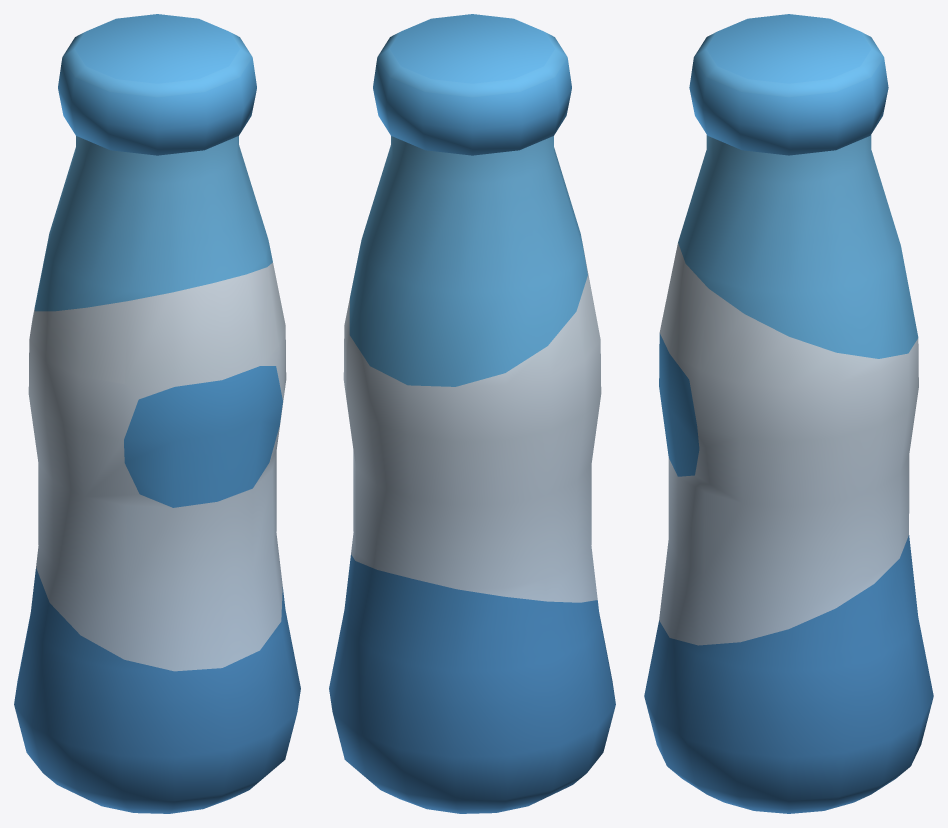
The model's file is yogurt_002.fbx.
3 views of the same model, side by side, from view 1: azimuth 30°, elevation 25°; view 2: azimuth 150°, elevation 25°; view 3: azimuth 270°, elevation 25° (orthographic).
Visible parts, largest first — view 1: yogurt_002; view 2: yogurt_002; view 3: yogurt_002.
Part boxes in pixels (bbox=[...]): yogurt_002: bbox=[14, 14, 300, 813]; yogurt_002: bbox=[329, 14, 615, 813]; yogurt_002: bbox=[644, 14, 933, 813].
Bounding box in the file's own units: 5.43 × 5.43 × 15.03.
